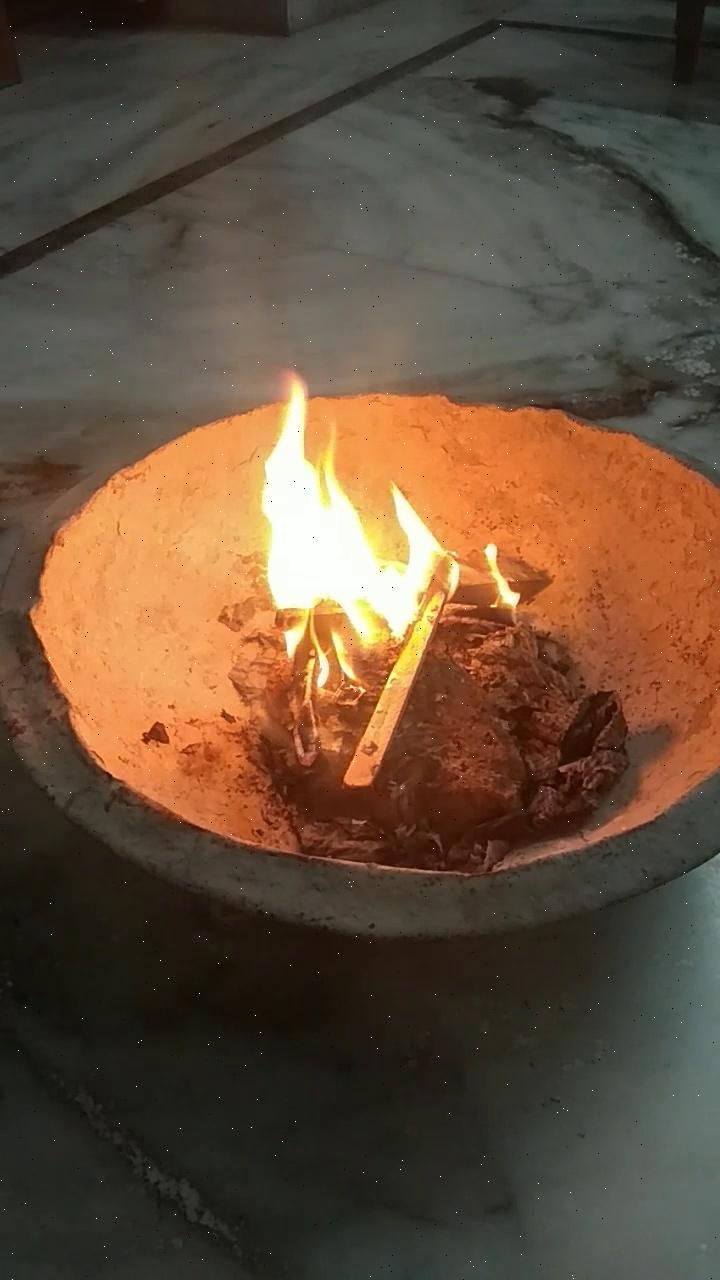fire: (218, 339, 479, 686)
